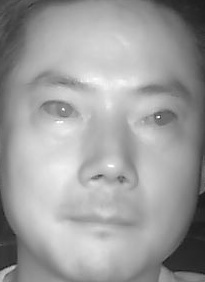eye: (132, 107, 184, 135), (37, 96, 86, 124)
mouth: (63, 197, 144, 243)
